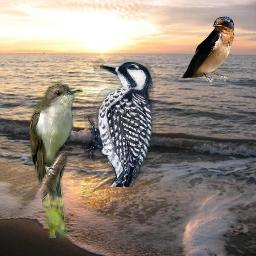Cuckoo: (30, 79, 83, 238)
Swallow: (181, 16, 234, 85)
Woodpecker: (84, 57, 156, 187)
